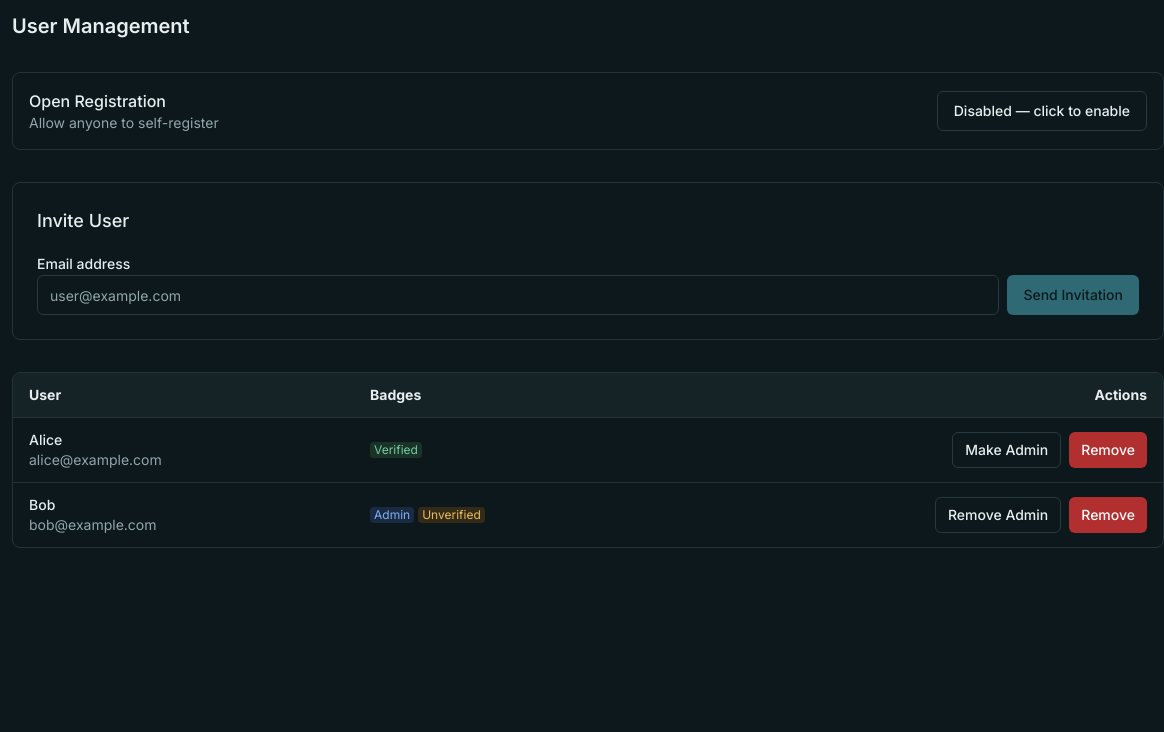
Test: UsersClient — invite user › maps an INVITATION_ALREADY_PENDING error code to a friendly message
Expected: the text "Alice" is shown, top-left (29, 431), bottom-right (62, 448)
Type "p@example.com" into the field labelled "Email address" at (518, 295), box top-left (37, 275), bottom-right (999, 315)
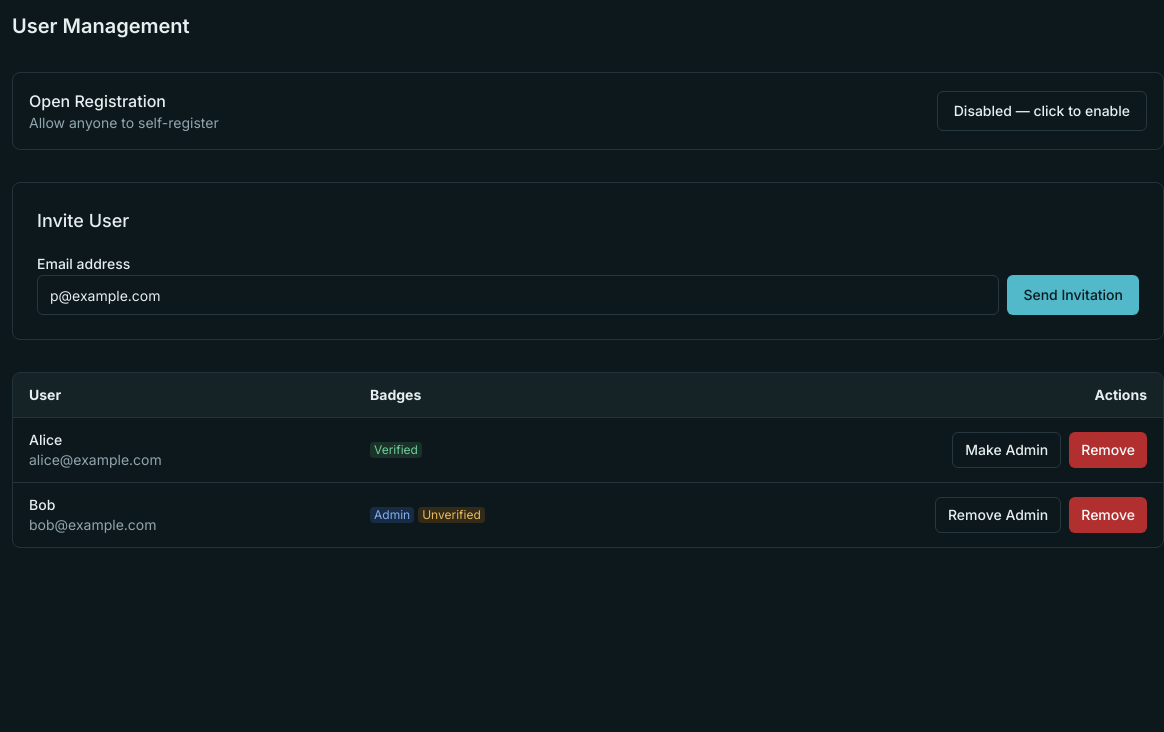
Click the button "Send Invitation" at (1073, 295), box top-left (1007, 275), bottom-right (1139, 315)
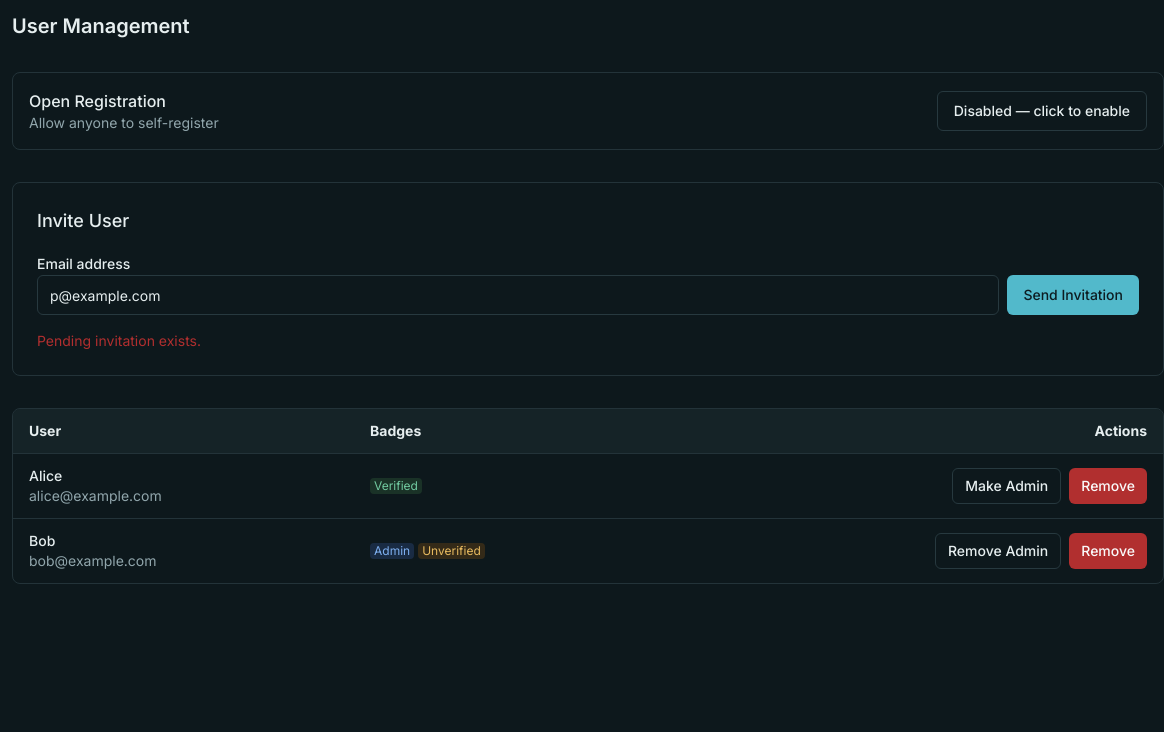
Expected: the message shows "Pending invitation exists", top-left (37, 332), bottom-right (201, 349)
